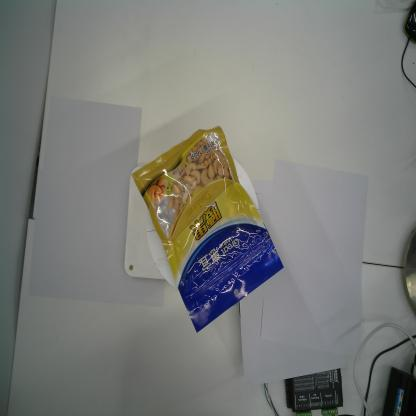Dried Fruit: (132, 124, 286, 334)
